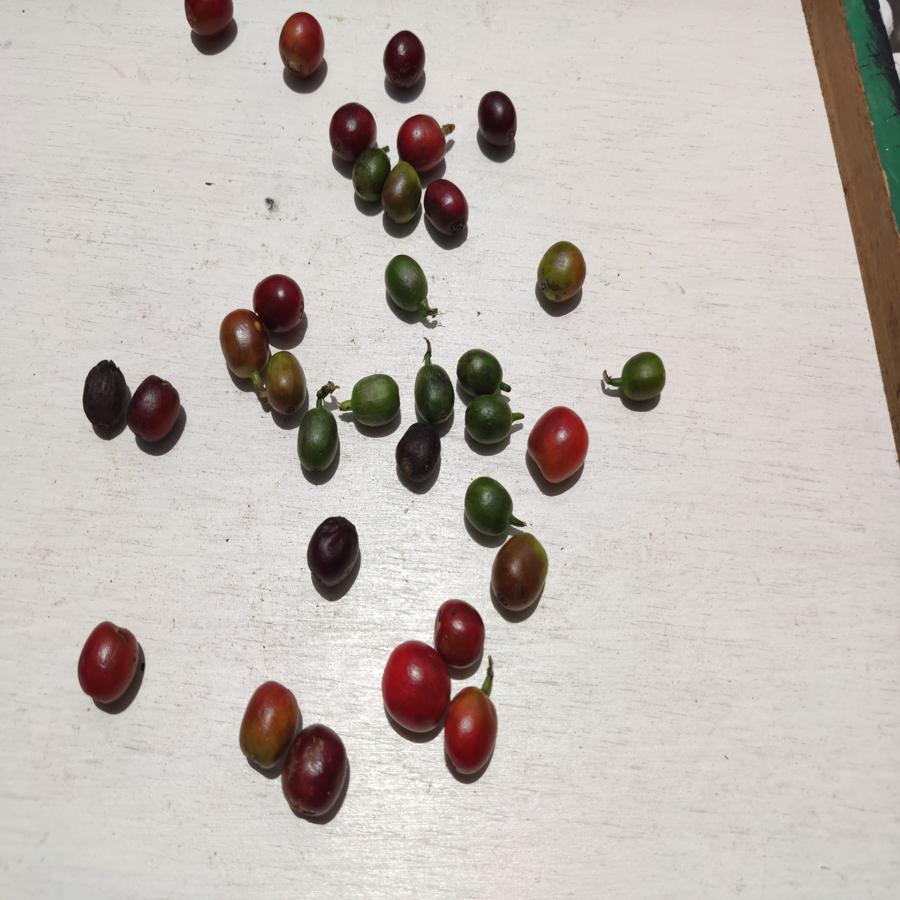Inmaduro: (297, 406, 340, 473), (463, 476, 511, 536), (385, 254, 433, 313), (410, 362, 457, 422), (349, 373, 401, 426), (618, 351, 666, 403), (464, 394, 513, 443), (455, 350, 506, 394), (352, 152, 387, 199)
Maduro: (382, 640, 448, 734), (442, 686, 503, 779), (526, 405, 590, 486), (77, 622, 138, 704), (430, 596, 488, 670), (277, 8, 329, 83), (397, 111, 450, 162), (182, 1, 235, 37)
Pinton: (493, 533, 551, 616), (239, 681, 295, 766), (220, 308, 272, 378), (536, 239, 588, 307), (265, 350, 306, 412), (383, 163, 423, 224)
Sobremaduro: (287, 722, 350, 815), (309, 515, 362, 586), (127, 374, 180, 445), (83, 357, 129, 436), (379, 27, 427, 92), (423, 177, 471, 237), (329, 101, 376, 158), (264, 273, 308, 331), (396, 424, 441, 480), (478, 91, 519, 148)
